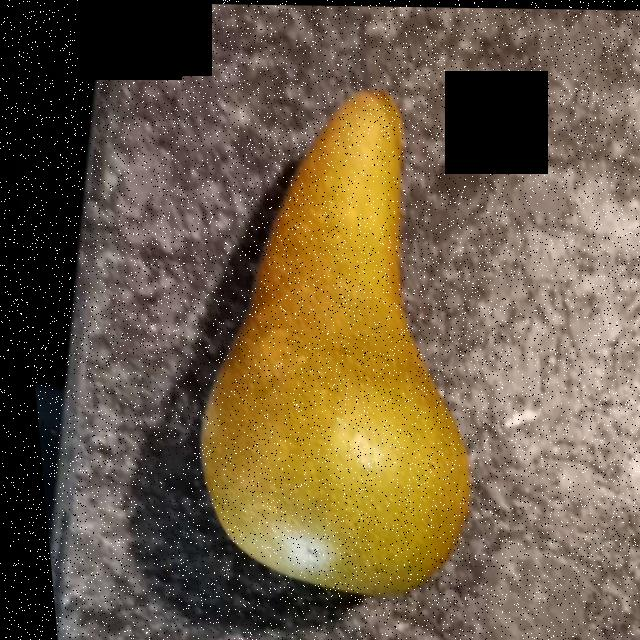pear: (200, 92, 456, 587)
